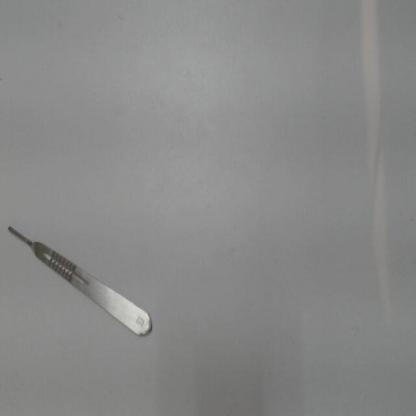No.3 BP Handle: (1, 213, 158, 350)
